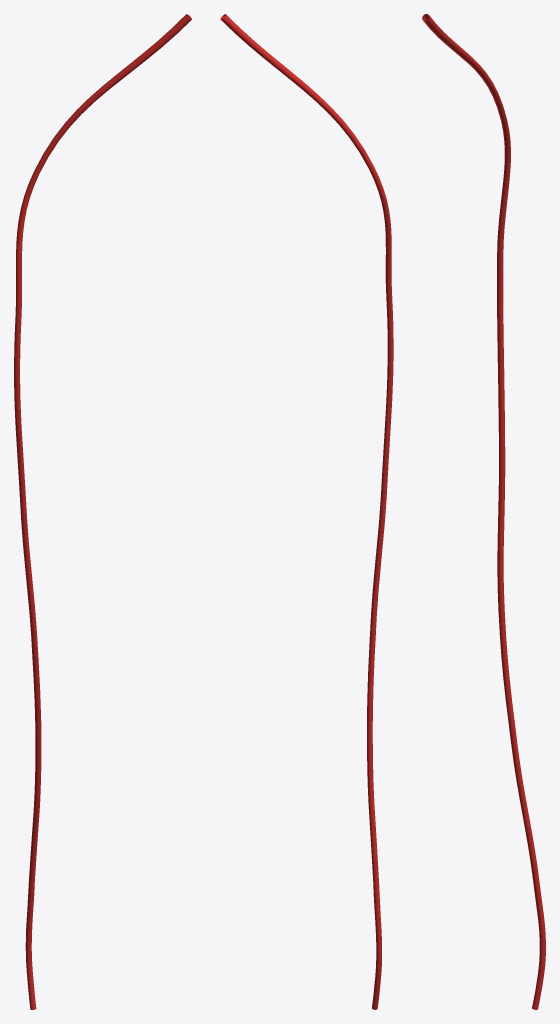
File: circulatorio-descending-branch-of-lateral-circumflex-femoral-artery.glb
3 renders of one model, left to right at view 1: azimuth 30°, elevation 25°; view 2: azimuth 210°, elevation 25°; view 3: azimuth 270°, elevation 25°, orthographic. The views are drawn at different scales.
Visible parts, largest first — view 1: Descending branch of lateral circumflex femoral artery; view 2: Descending branch of lateral circumflex femoral artery; view 3: Descending branch of lateral circumflex femoral artery.
Part boxes in pixels (<box>): Descending branch of lateral circumflex femoral artery: <box>14,14,191,1009</box>; Descending branch of lateral circumflex femoral artery: <box>220,14,393,1009</box>; Descending branch of lateral circumflex femoral artery: <box>422,14,545,1009</box>.
Bounding box in the file's own units: 0.0487 × 0.3315 × 0.0356.
